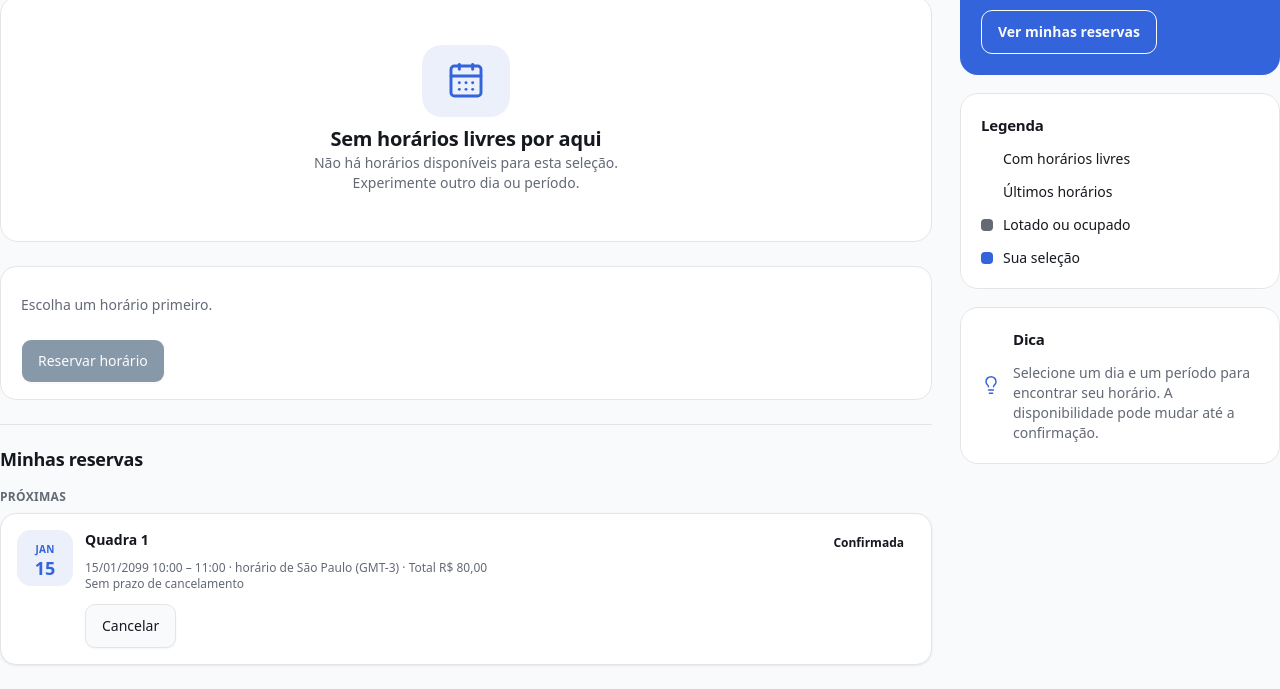
Test: TenantPortalAgendaPage B2C self-cancel › cancels, toasts success, and refetches mine plus the schedule day
This screenshot has width=1280, height=689.
(page scrolled)
Expected: the heading "Minhas reservas" is shown, 0,447 -> 143,471
Expected: the list item "Quadra 1" shows "R$ 80,00", 409,559 -> 487,576
Step 1. Click the button "Cancelar" → {"x": 131, "y": 626}, box 85,604 -> 176,648
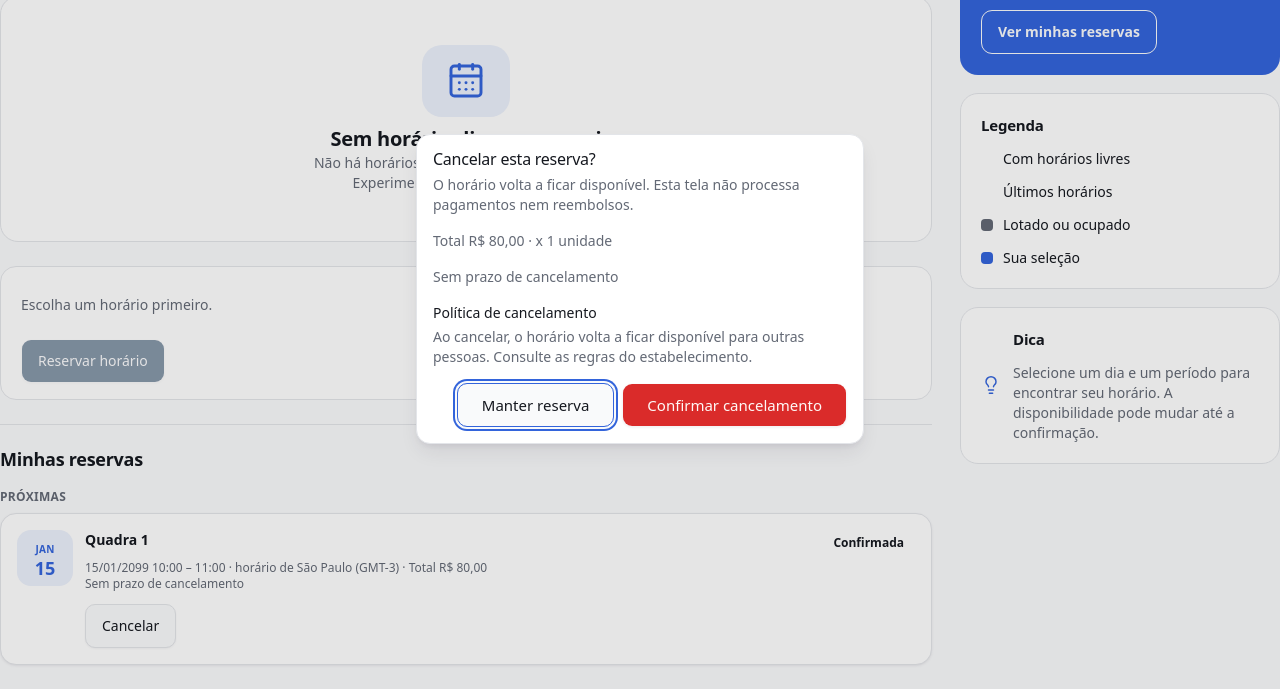
Step 2. Click the button "Confirmar cancelamento" → {"x": 735, "y": 405}, box 622,383 -> 847,427
(page scrolled)
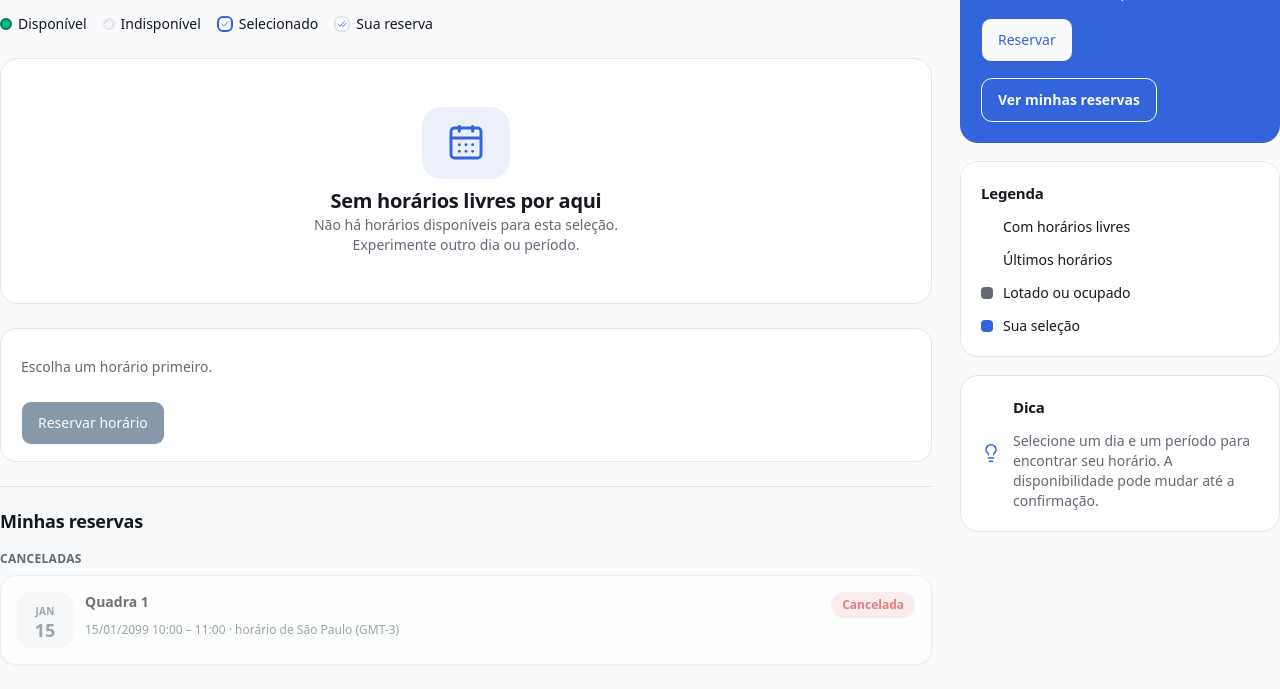
Now the button "Cancelar" is gone
Now the text "Cancelada" is shown, box 831,592 -> 915,618
